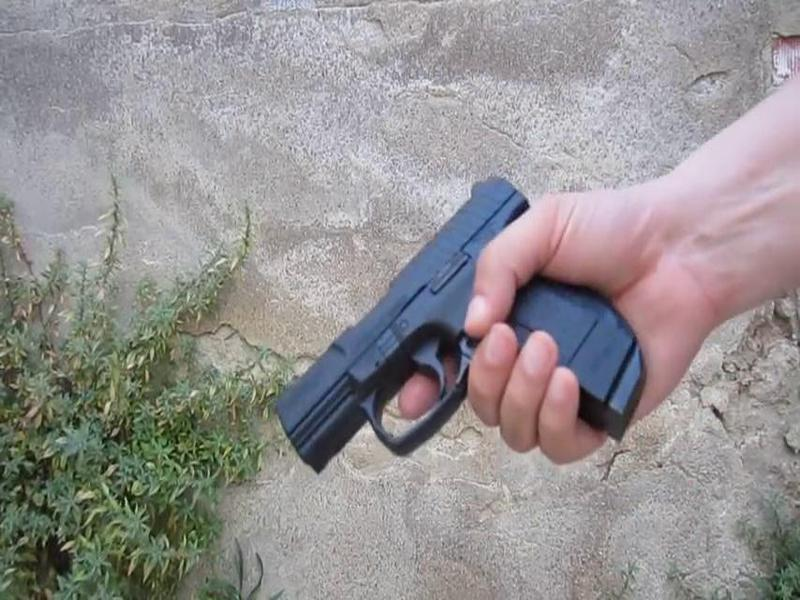Pistola: (264, 150, 635, 487)
